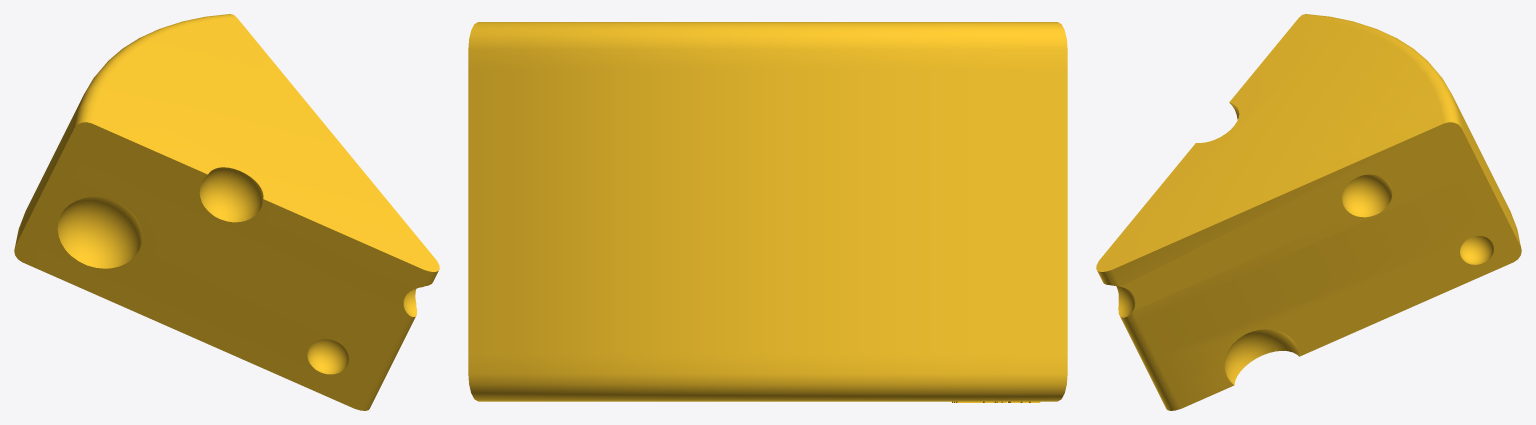
Rendered from cheese_wedge.fbx.
The picture shows the model from 3 angles, left to right: view 1: azimuth 30°, elevation 25°; view 2: azimuth 150°, elevation 25°; view 3: azimuth 270°, elevation 25°; orthographic projection. The views are drawn at different scales.
Parts seen in each view (by area): view 1: Circle.2204; view 2: Circle.2204; view 3: Circle.2204.
Boxes of the visible parts, x1,y1,x2,y2 form: Circle.2204: [14, 14, 439, 410]; Circle.2204: [468, 22, 1067, 402]; Circle.2204: [1096, 14, 1521, 410].
Size of the model in its own units: 200 by 199 by 252.
Materials: 1 (1 with a texture image).
